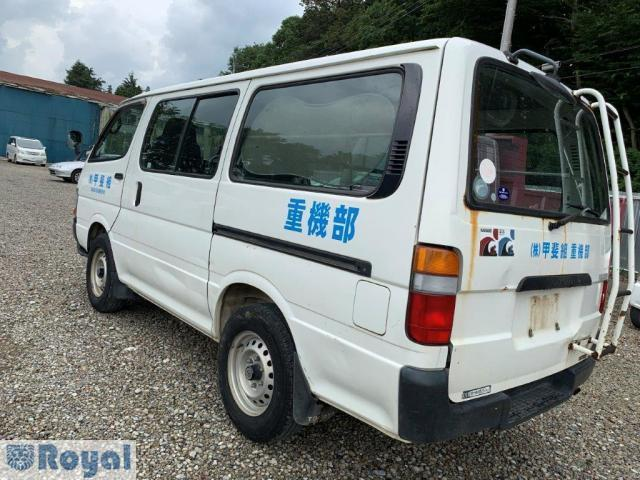van: (77, 40, 626, 438)
